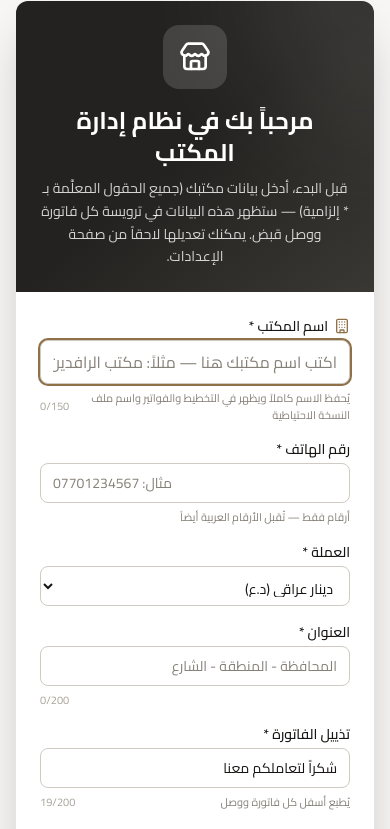
Test: معالج التشغيل الأول لا يمكن تخطيه › يرفض الحفظ بالاسم وحده ويُبقي المعالج مع رسائل لكل حقل ناقص
This screenshot has width=390, height=829.
Expected: the heading "مرحباً بك في نظام إدارة المكتب" is shown, top-left (76, 98), bottom-right (314, 175)
Type "مكتب الرافدين" into the field with id "setup-officeName" at (195, 362), box top-left (40, 340), bottom-right (350, 384)
(page scrolled)
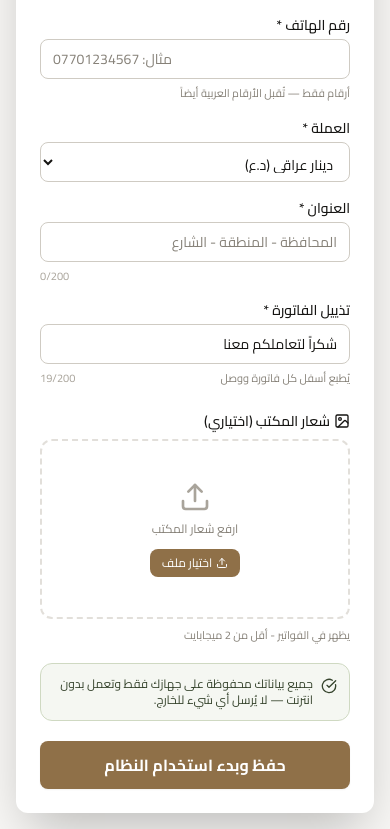
Click the button "حفظ وبدء استخدام النظام" at (195, 765), box top-left (40, 741), bottom-right (350, 789)
(page scrolled)
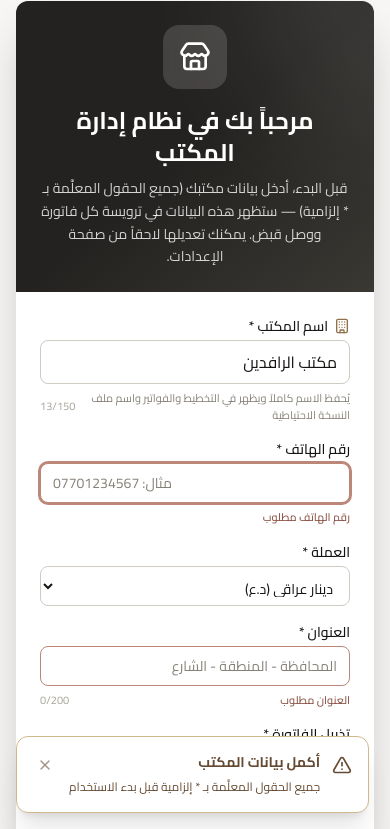
Expected: the heading "مرحباً بك في نظام إدارة المكتب" is shown, top-left (76, 98), bottom-right (314, 175)
Result: the text "رقم الهاتف مطلوب" is shown at top-left (263, 509), bottom-right (350, 526)
Result: the text "العنوان مطلوب" is shown at top-left (280, 692), bottom-right (350, 708)
